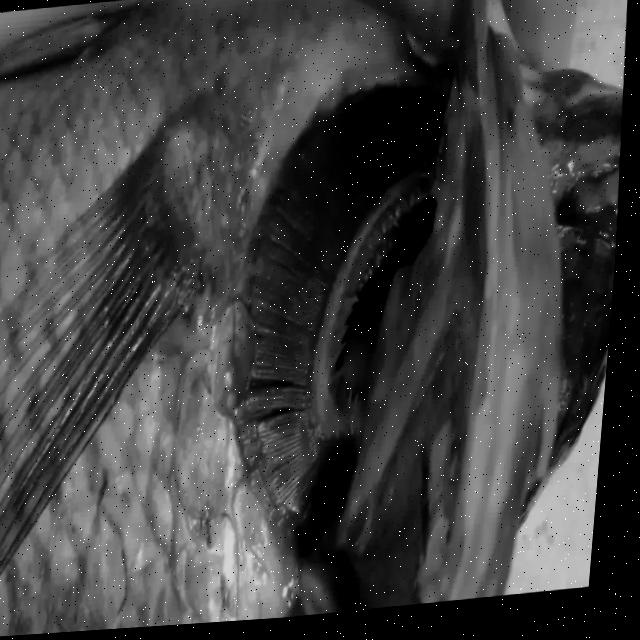Non-Fresh: (203, 50, 469, 553)
